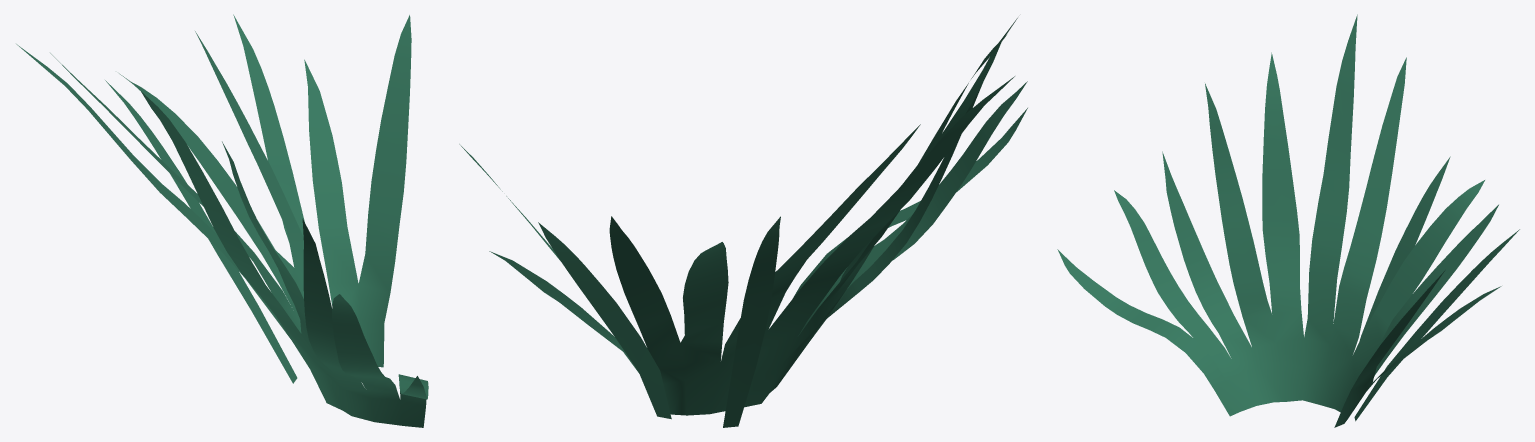
Rendered from plant_agave_B_comb.fbx.
3 renders of one model, left to right at view 1: azimuth 30°, elevation 25°; view 2: azimuth 150°, elevation 25°; view 3: azimuth 270°, elevation 25°, orthographic. The views are drawn at different scales.
Visible parts, largest first — view 1: plant_agave_B_comb; view 2: plant_agave_B_comb; view 3: plant_agave_B_comb.
Part boxes in pixels (box(x1,y1,x2,y2)): plant_agave_B_comb: box(16, 14, 428, 427); plant_agave_B_comb: box(459, 18, 1027, 427); plant_agave_B_comb: box(1057, 14, 1519, 427).
Bounding box in the file's own units: 81.14 × 67.8 × 98.33.
